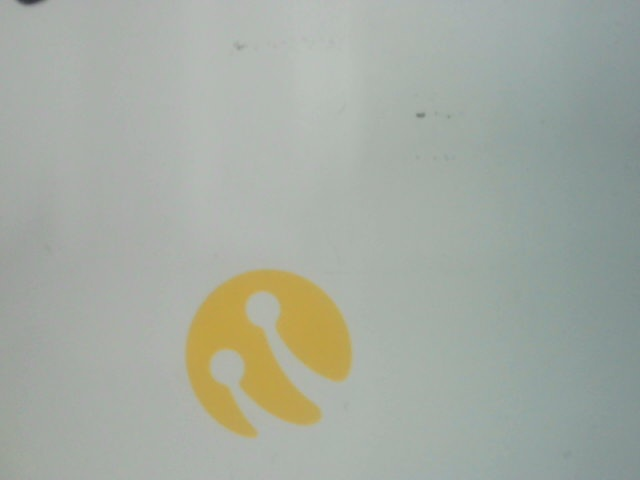AV_H3600Yellow: (164, 260, 375, 439)
